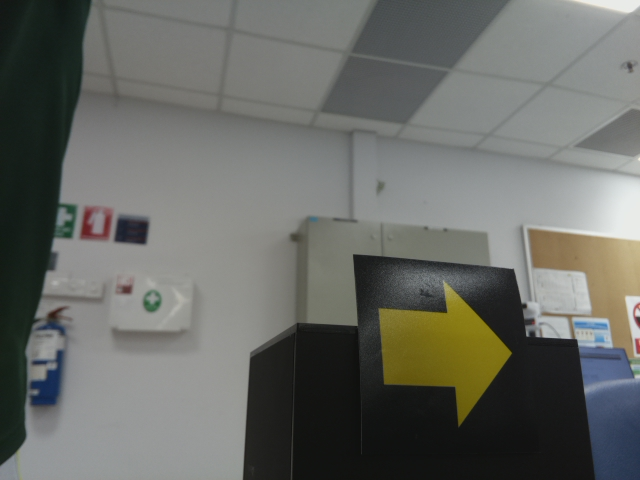right: (365, 270, 518, 425)
